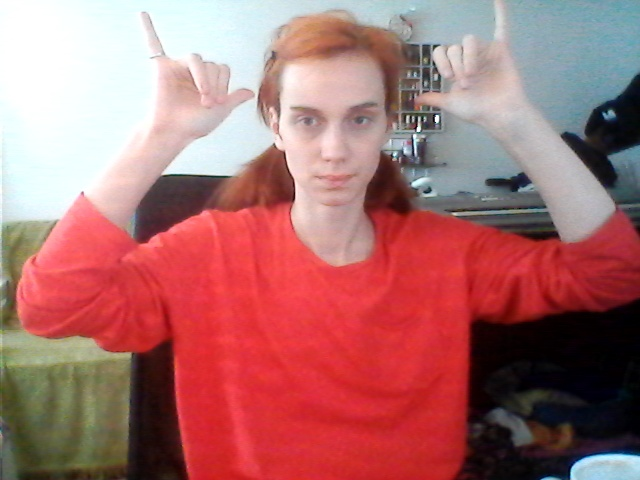krava: (140, 1, 520, 144)
